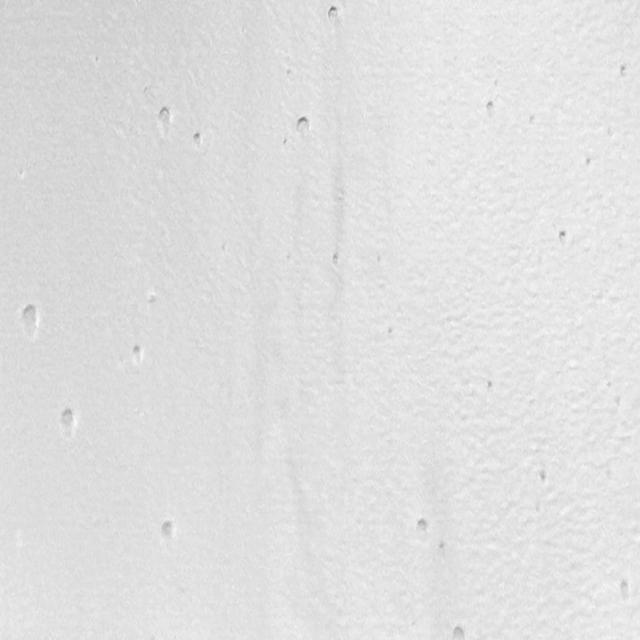pin holes: (18, 302, 42, 338), (58, 405, 81, 435), (157, 517, 180, 544), (292, 115, 314, 142), (153, 106, 174, 134), (413, 515, 435, 541), (616, 577, 636, 604), (482, 98, 502, 123), (534, 465, 554, 489), (189, 129, 208, 153), (323, 2, 343, 24), (129, 342, 148, 365), (447, 623, 470, 640), (555, 228, 573, 249), (328, 248, 344, 270), (146, 292, 164, 311), (617, 61, 632, 80), (582, 154, 596, 170), (483, 377, 497, 392), (281, 136, 290, 154), (386, 323, 394, 343), (528, 112, 536, 128), (438, 540, 447, 554)
